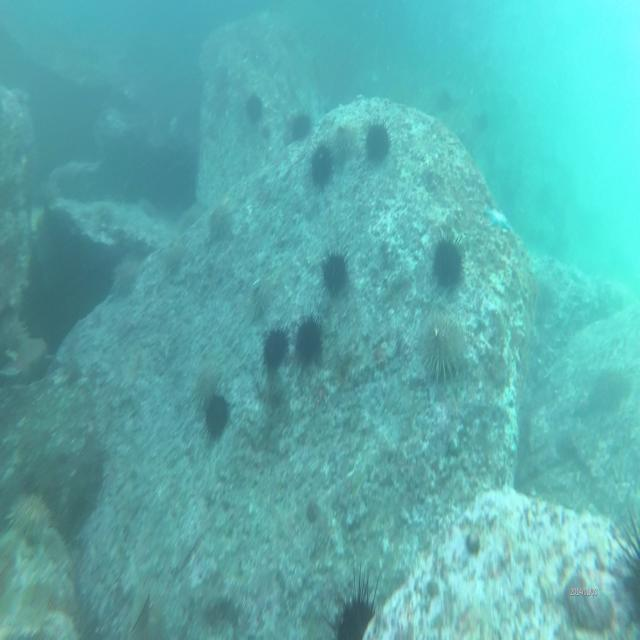echinus: (606, 502, 640, 636), (318, 572, 382, 640), (418, 304, 462, 380), (430, 223, 466, 296), (319, 242, 352, 303), (360, 114, 396, 168), (262, 323, 292, 375), (204, 205, 236, 252), (295, 316, 323, 368), (306, 141, 334, 189), (204, 393, 231, 441), (111, 257, 141, 298), (159, 237, 187, 278), (191, 365, 220, 404), (288, 107, 316, 146), (247, 280, 272, 320), (243, 91, 264, 127)
